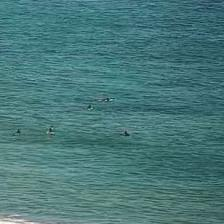surfer: (122, 130, 130, 137), (86, 104, 92, 110), (102, 98, 110, 102), (48, 127, 53, 133), (16, 129, 21, 133)
